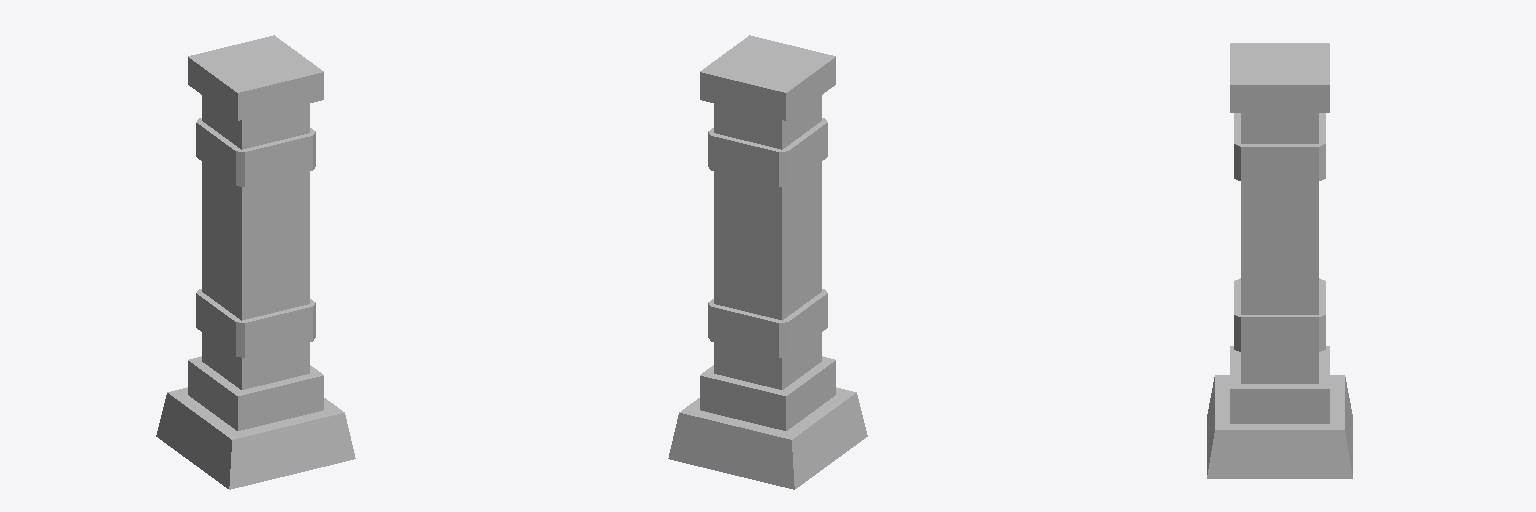
3 renders of one model, left to right at view 1: azimuth 30°, elevation 25°; view 2: azimuth 150°, elevation 25°; view 3: azimuth 270°, elevation 25°, orthographic.
Visible parts, largest first — view 1: columnLarge; view 2: columnLarge; view 3: columnLarge.
Boxes of the visible parts, x1=… form: columnLarge: x1=156, y1=35, x2=355, y2=489; columnLarge: x1=668, y1=35, x2=867, y2=489; columnLarge: x1=1207, y1=43, x2=1352, y2=478.
Size of the model in its own units: 0.3455 by 1 by 0.3455.